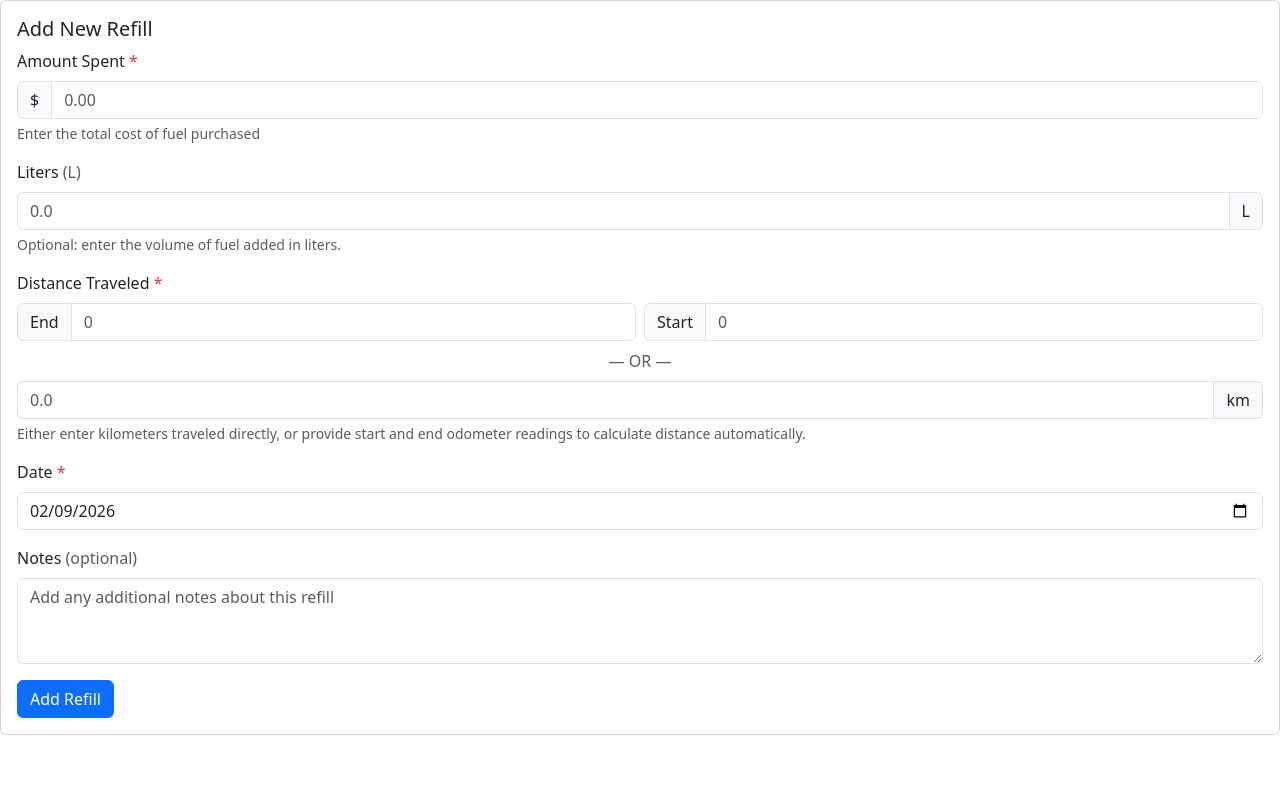
it: RefillForm › Create Mode › displays validation error for zero amount
// Fill in required fields
Type "0" into the number field labelled "Amount Spent *".
click(657, 100); type("0")  # box [51, 81, 1263, 119]
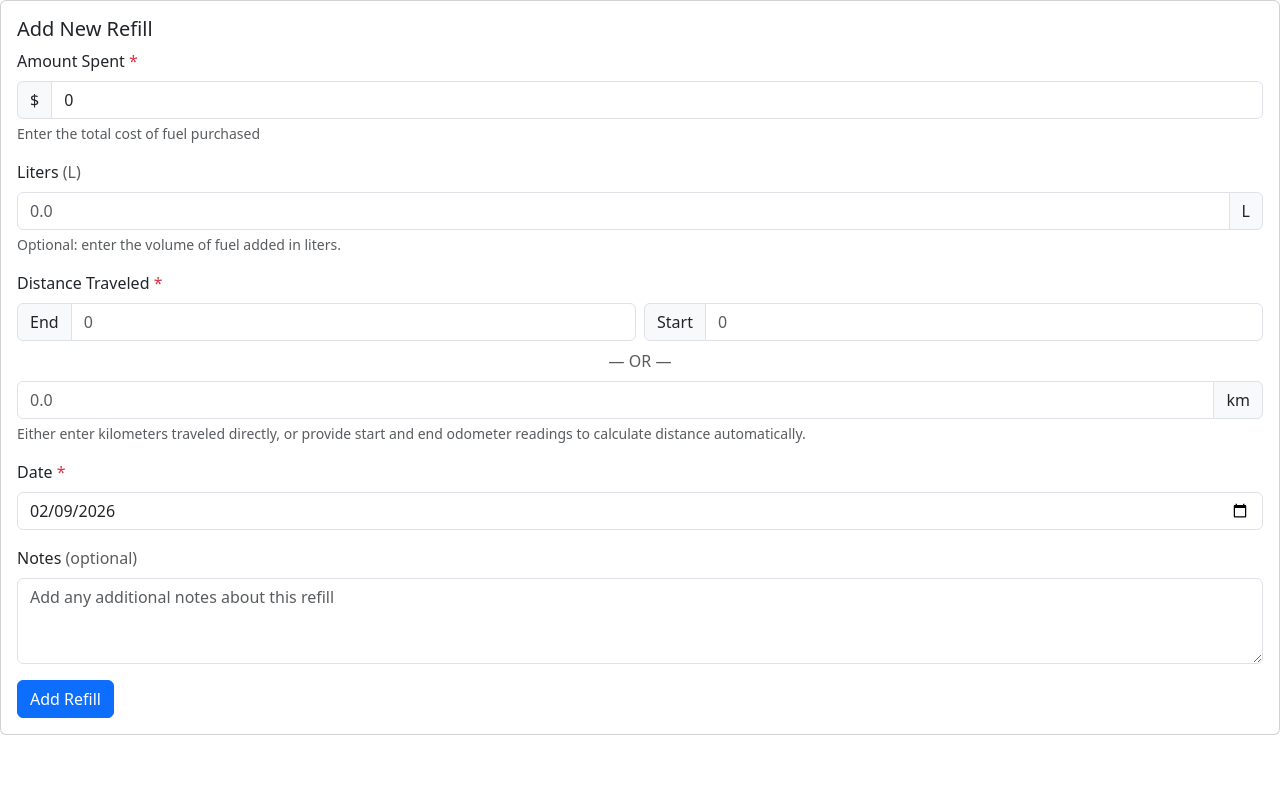
Type "100" into the number field labelled "Distance Traveled *".
click(616, 400); type("100")  # box [17, 381, 1214, 419]
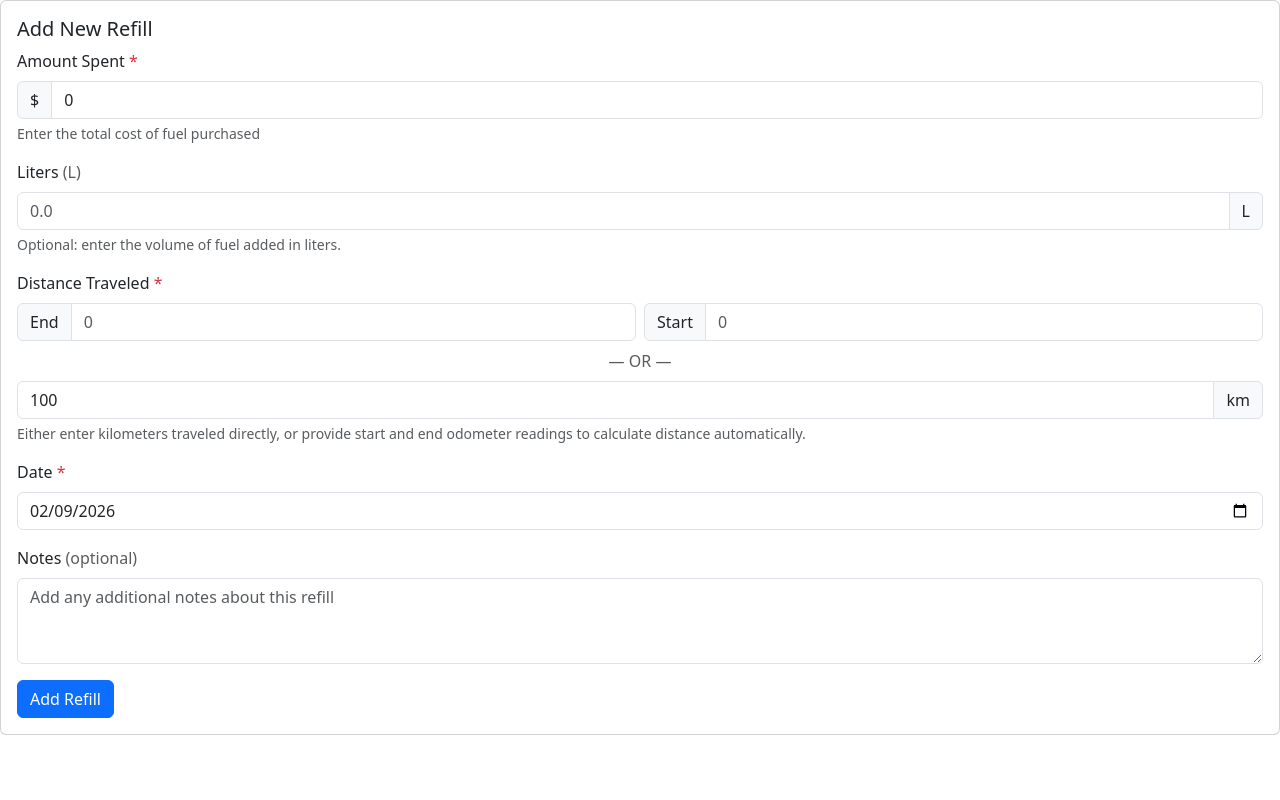
Type "2024-01-15" into the date field labelled "Date *".
click(640, 511); type("2024-01-15")  # box [17, 492, 1263, 530]
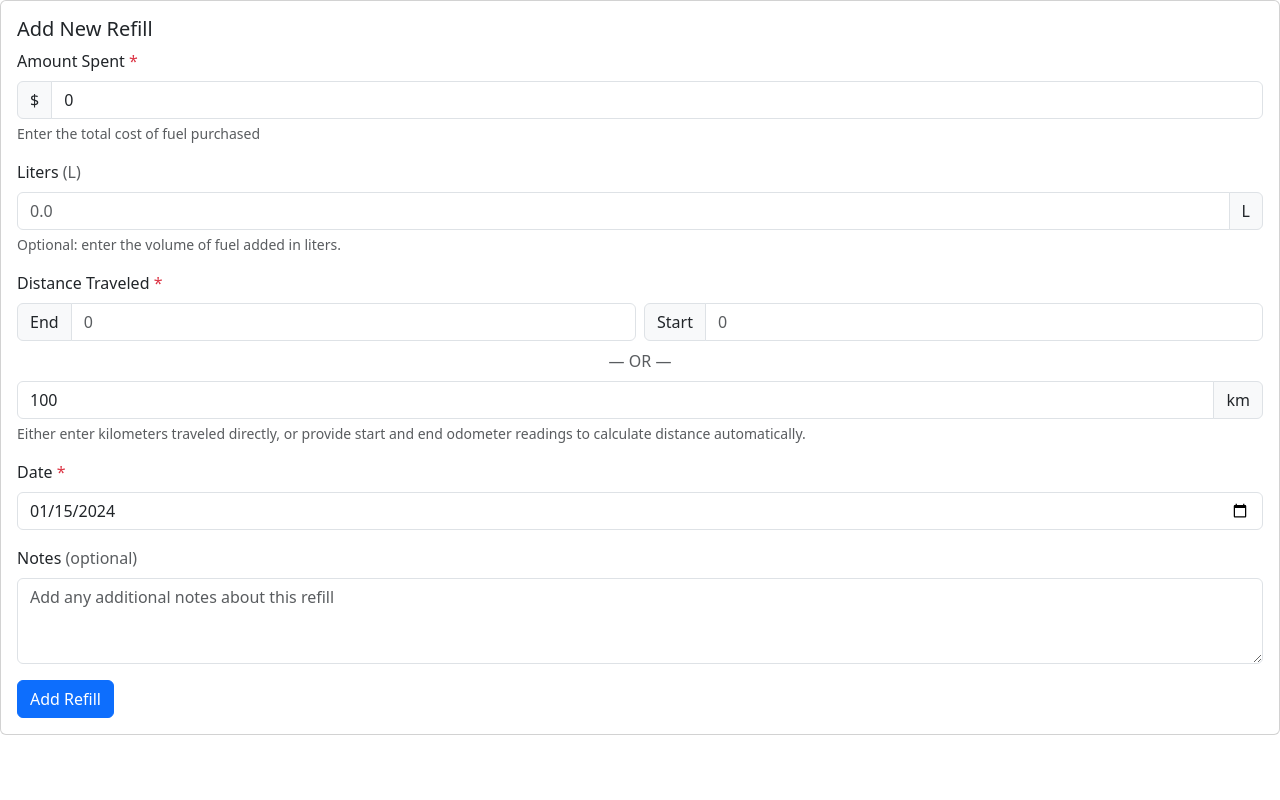
Click the button "Add Refill".
click(65, 699)  # box [17, 680, 114, 718]
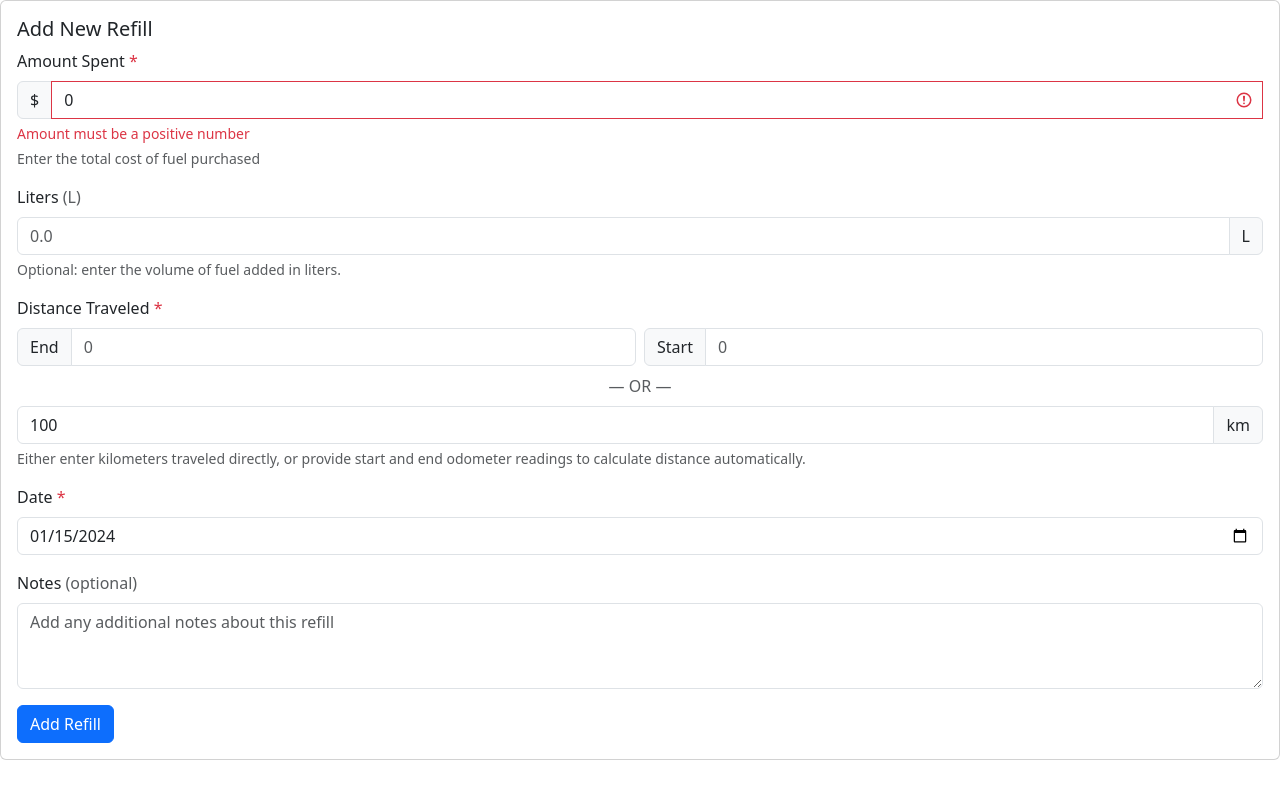
Check: the text "Amount must be a positive number" is shown, box [17, 124, 250, 143]
